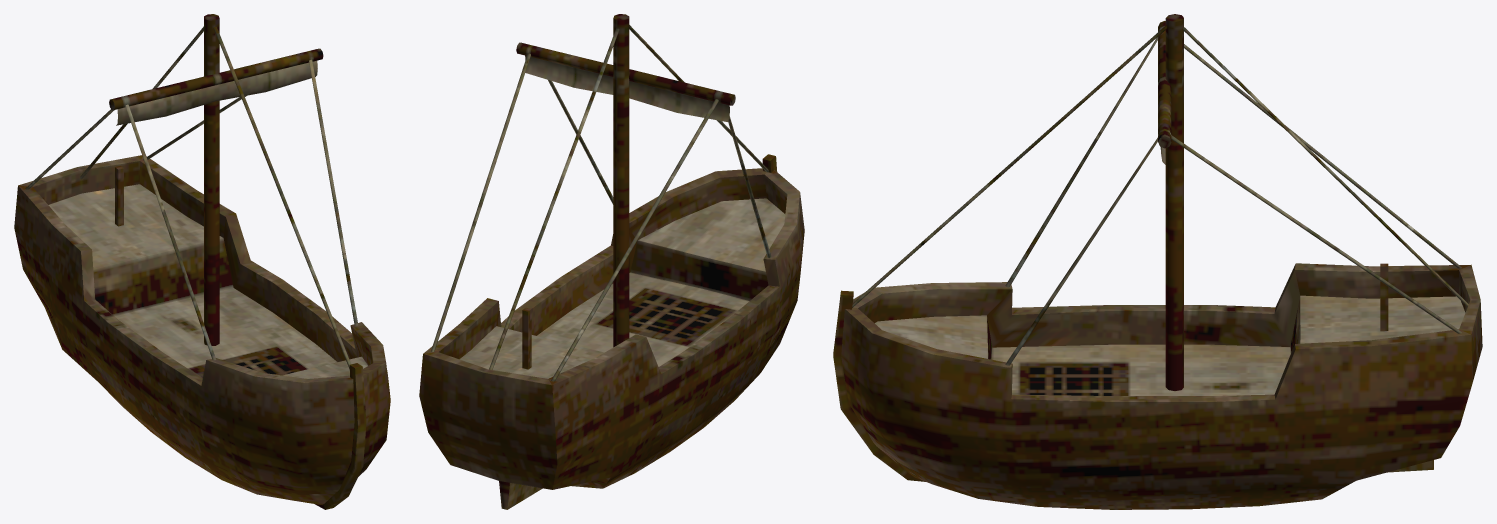
Rendered from boat.fbx.
3 renders of one model, left to right at view 1: azimuth 30°, elevation 25°; view 2: azimuth 150°, elevation 25°; view 3: azimuth 270°, elevation 25°, orthographic. The views are drawn at different scales.
Parts seen in each view (by area): view 1: Ship_2_Assets_0; view 2: Ship_2_Assets_0; view 3: Ship_2_Assets_0.
Boxes of the visible parts, x1,y1,x2,y2 form: Ship_2_Assets_0: (14,14,390,509); Ship_2_Assets_0: (419,14,804,509); Ship_2_Assets_0: (833,14,1482,509).
Bounding box in the file's own units: 3.1 × 5.91 × 7.37.
